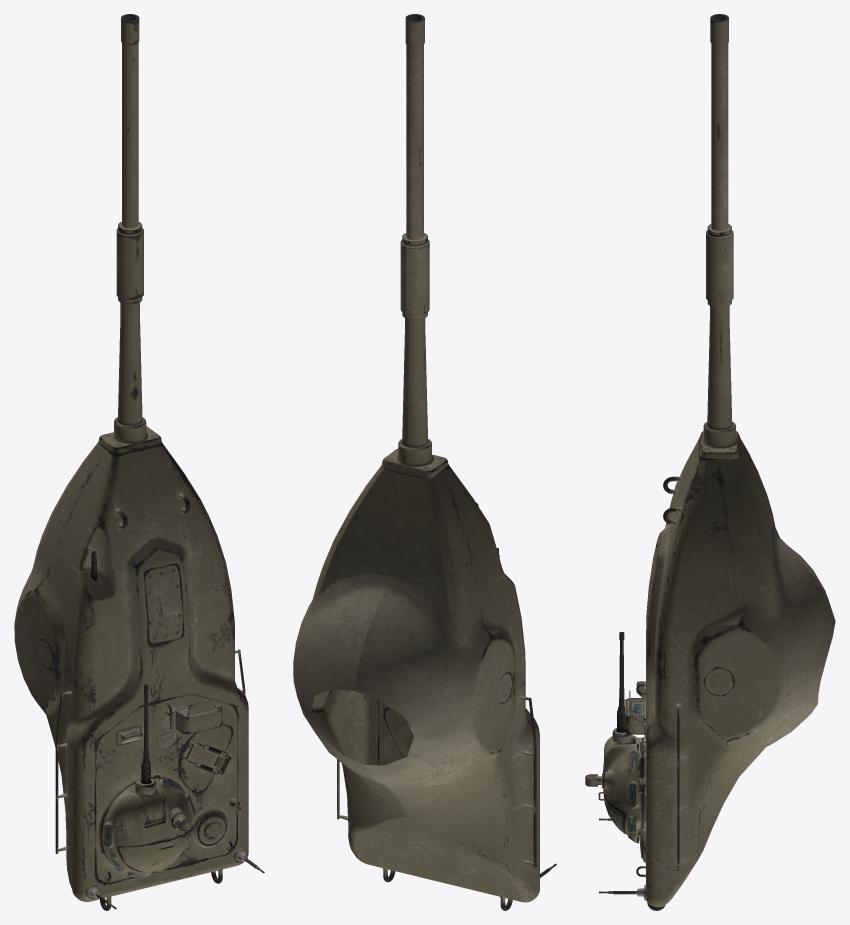
Rendered from Gun_02.glb.
3 renders of one model, left to right at view 1: azimuth 30°, elevation 25°; view 2: azimuth 150°, elevation 25°; view 3: azimuth 270°, elevation 25°, orthographic. The views are drawn at different scales.
Visible parts, largest first — view 1: set_0_group_0; view 2: set_0_group_0; view 3: set_0_group_0.
Part boxes in pixels (<box>): set_0_group_0: <box>14,14,264,910</box>; set_0_group_0: <box>293,14,556,910</box>; set_0_group_0: <box>585,14,835,910</box>.
Size of the model in its own units: 1.87 by 8.08 by 2.12.
Materials: 1 (1 with a texture image).
